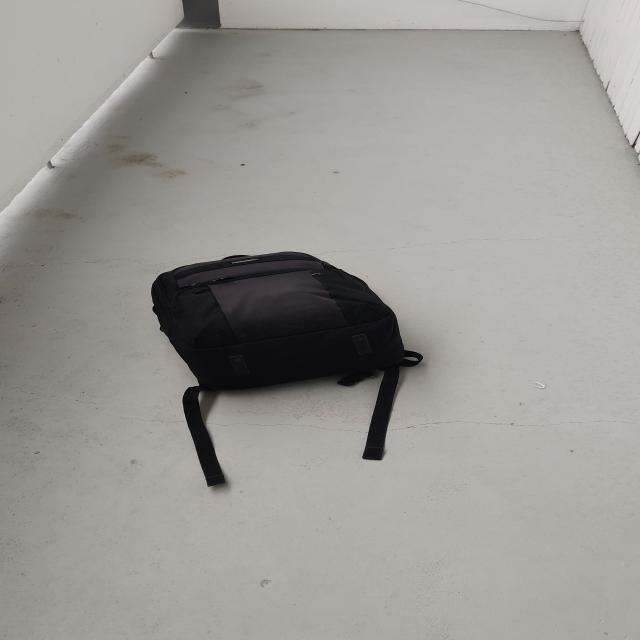backpack: (139, 247, 416, 401)
